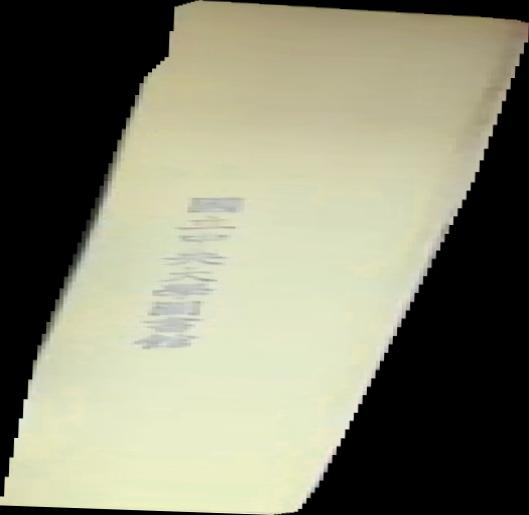backward: (1, 1, 529, 515)
